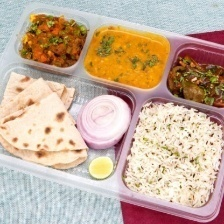dal: (83, 21, 171, 88)
